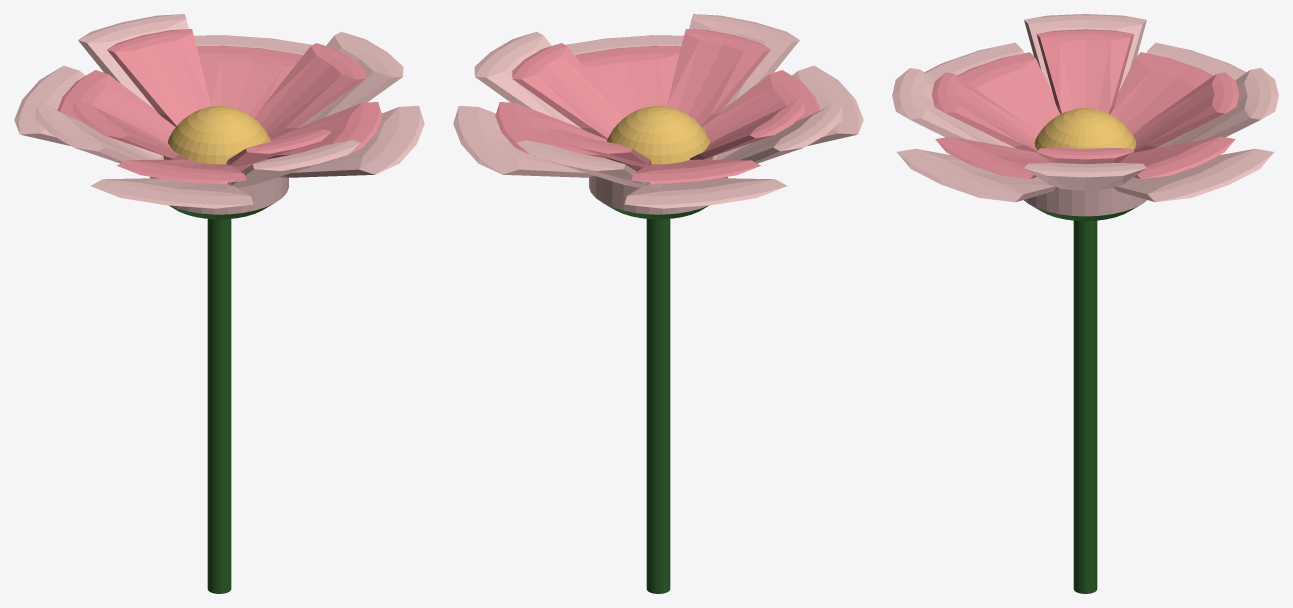
The model's file is Fleur.fbx.
3 views of the same model, side by side, from view 1: azimuth 30°, elevation 25°; view 2: azimuth 150°, elevation 25°; view 3: azimuth 270°, elevation 25° (orthographic).
Parts seen in each view (by area): view 1: Cylinder, Cylinder.001, Sphere; view 2: Cylinder, Cylinder.001, Sphere; view 3: Cylinder, Cylinder.001, Sphere.
Part boxes in pixels (x1,y1,x2,y2): Cylinder: [14, 14, 424, 593]; Cylinder.001: [57, 29, 382, 183]; Sphere: [163, 106, 270, 164]; Cylinder: [453, 14, 863, 593]; Cylinder.001: [495, 29, 820, 183]; Sphere: [607, 106, 714, 164]; Cylinder: [892, 14, 1278, 593]; Cylinder.001: [931, 29, 1239, 178]; Sphere: [1034, 108, 1136, 157].
Size of the model in its own units: 179 by 254 by 179.
